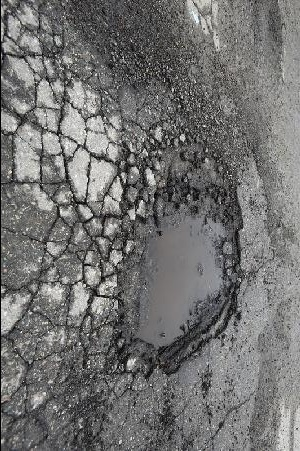pothole: (107, 130, 248, 379)
